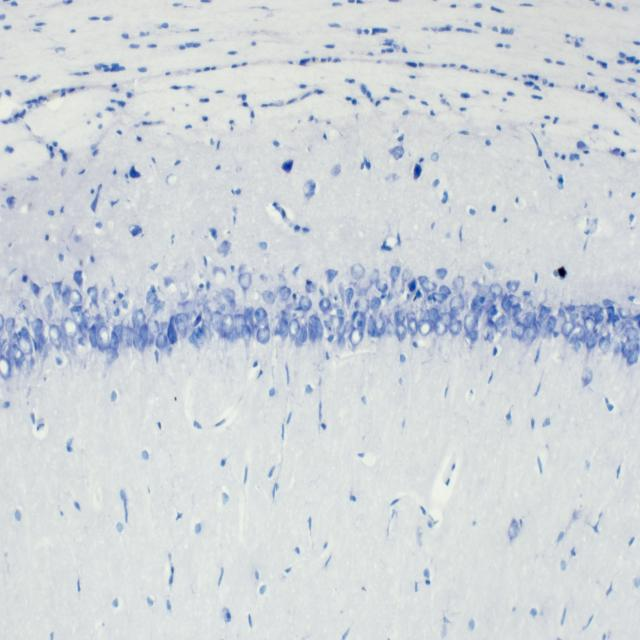neuron: (309, 313, 324, 341), (16, 333, 34, 356), (48, 323, 63, 350), (63, 316, 78, 340), (96, 326, 110, 351), (175, 312, 188, 338), (351, 311, 367, 332), (222, 288, 237, 310), (12, 344, 25, 369), (568, 324, 584, 344), (418, 276, 437, 292), (0, 355, 12, 380), (482, 320, 495, 343), (279, 310, 289, 339), (350, 263, 366, 281), (470, 294, 486, 312), (234, 314, 247, 336), (349, 328, 364, 347), (522, 325, 536, 345), (288, 318, 301, 339), (355, 296, 369, 315), (192, 328, 205, 348), (464, 314, 477, 334), (433, 319, 448, 336), (68, 288, 82, 306), (105, 346, 119, 364), (238, 272, 252, 290), (374, 316, 386, 337), (44, 294, 54, 319), (539, 304, 552, 323), (211, 311, 222, 333), (418, 319, 432, 336), (448, 319, 462, 336), (257, 326, 270, 344), (87, 286, 98, 307), (31, 318, 43, 337), (367, 314, 376, 339), (132, 310, 146, 326), (278, 286, 292, 302), (450, 296, 464, 312), (464, 330, 478, 346), (299, 295, 312, 312), (222, 314, 233, 334), (501, 293, 512, 313), (582, 366, 593, 386), (156, 331, 168, 349), (240, 325, 252, 343), (376, 277, 388, 295), (599, 336, 611, 354), (110, 330, 120, 351), (217, 240, 232, 254), (262, 290, 276, 305), (624, 327, 639, 341), (407, 318, 418, 337), (452, 275, 465, 291), (490, 283, 503, 299), (562, 321, 575, 337), (584, 331, 596, 348), (38, 333, 48, 353), (89, 324, 97, 349), (202, 322, 212, 342), (547, 314, 557, 334), (308, 322, 317, 344), (368, 268, 379, 286), (370, 296, 381, 314), (396, 324, 407, 342), (326, 268, 339, 283), (439, 312, 452, 327), (255, 307, 267, 323), (319, 298, 331, 314), (432, 292, 448, 304), (584, 316, 596, 332), (386, 319, 396, 338), (514, 322, 524, 341), (394, 309, 405, 326), (390, 265, 401, 282), (428, 307, 439, 324), (588, 302, 601, 316), (6, 316, 16, 334), (244, 306, 254, 324), (495, 314, 505, 332), (506, 280, 521, 292), (81, 309, 92, 325), (346, 287, 354, 309), (618, 306, 631, 319), (146, 291, 158, 305), (606, 314, 620, 326), (154, 299, 165, 314), (525, 311, 536, 326), (139, 324, 148, 342), (299, 325, 308, 343), (202, 307, 212, 323), (439, 284, 452, 296), (336, 323, 346, 338), (478, 285, 490, 297), (435, 268, 448, 279), (402, 269, 412, 283), (627, 352, 638, 364), (61, 292, 70, 306), (337, 335, 346, 349), (606, 305, 615, 318), (602, 299, 616, 307), (306, 282, 316, 293), (594, 313, 604, 324), (623, 349, 635, 357)
